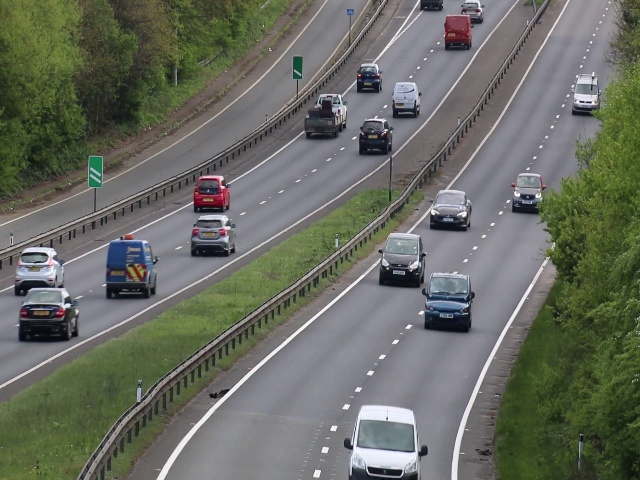car: (350, 406, 422, 480), (19, 287, 79, 349), (104, 237, 158, 299), (423, 271, 473, 331), (380, 230, 424, 288), (13, 247, 66, 293), (191, 213, 238, 259), (304, 92, 348, 137), (428, 188, 473, 231), (189, 174, 232, 212), (512, 169, 543, 216), (389, 81, 425, 118), (570, 73, 600, 114), (440, 15, 476, 49), (359, 118, 393, 154), (354, 62, 383, 94)
